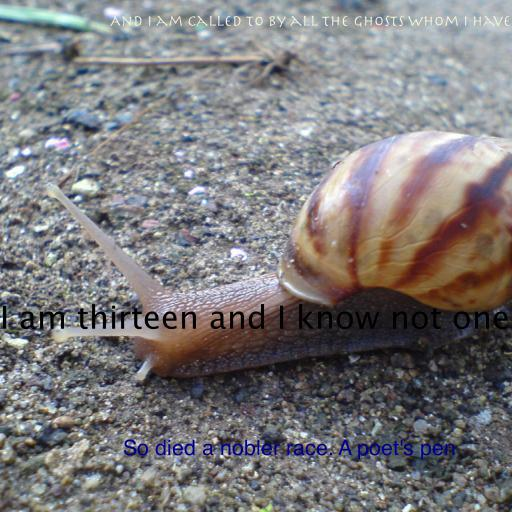Helvetica: (122, 439, 456, 460)
Herculanum: (109, 15, 511, 28)
Lucida Grande: (0, 304, 510, 330)
